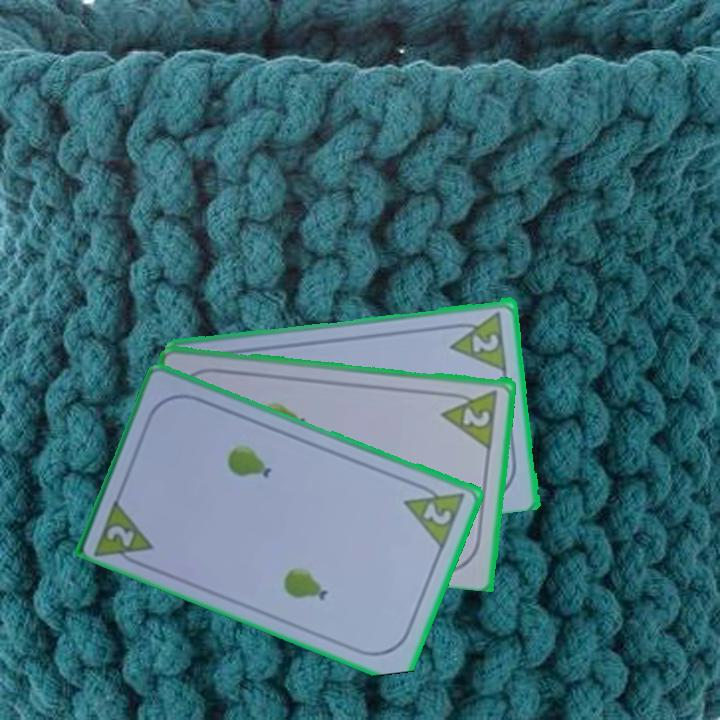2p: (401, 477, 469, 552), (103, 521, 138, 550), (460, 404, 493, 430), (468, 330, 502, 355)
